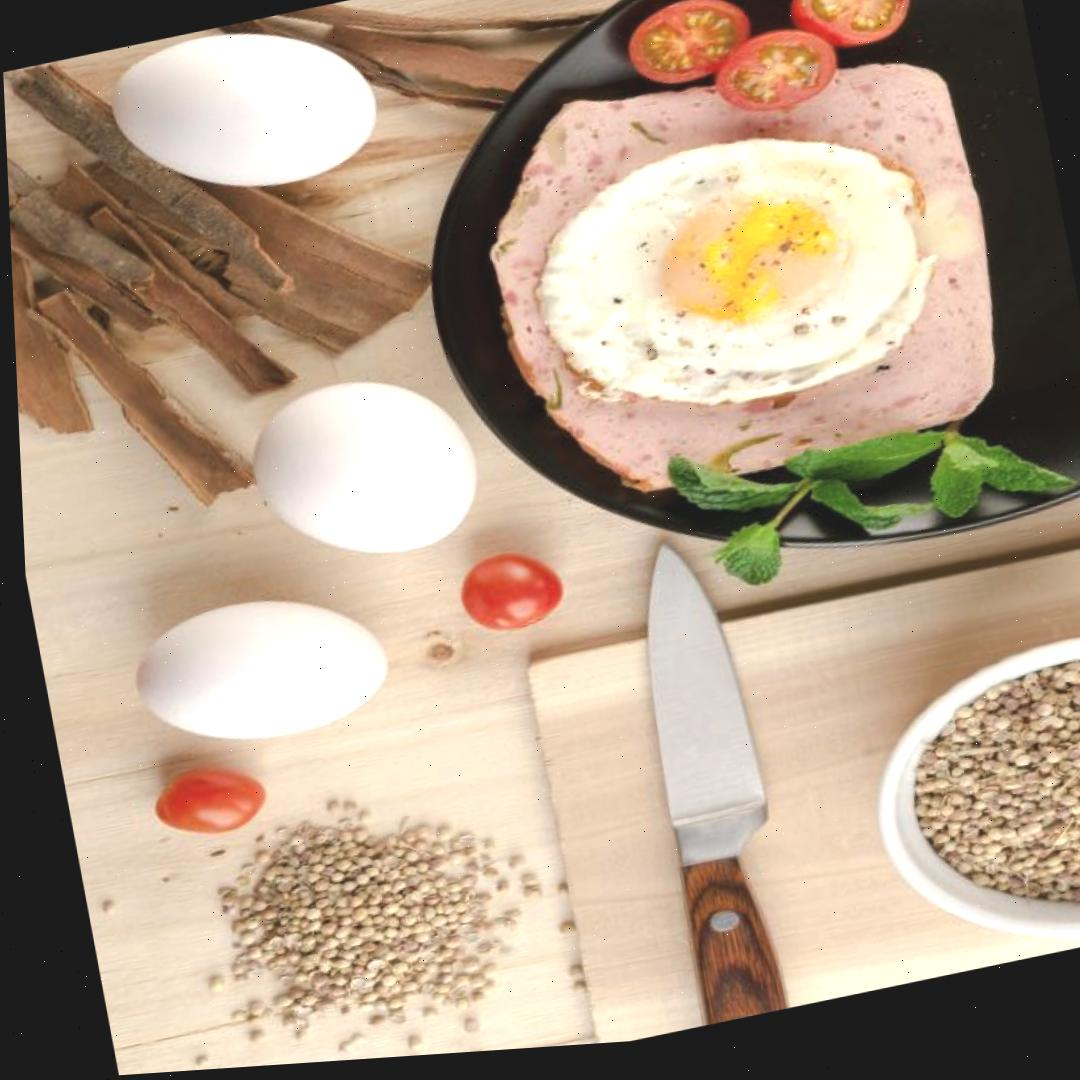matang: (705, 18, 845, 120), (622, 0, 758, 89), (149, 752, 274, 845), (456, 539, 570, 639), (781, 0, 916, 57)
